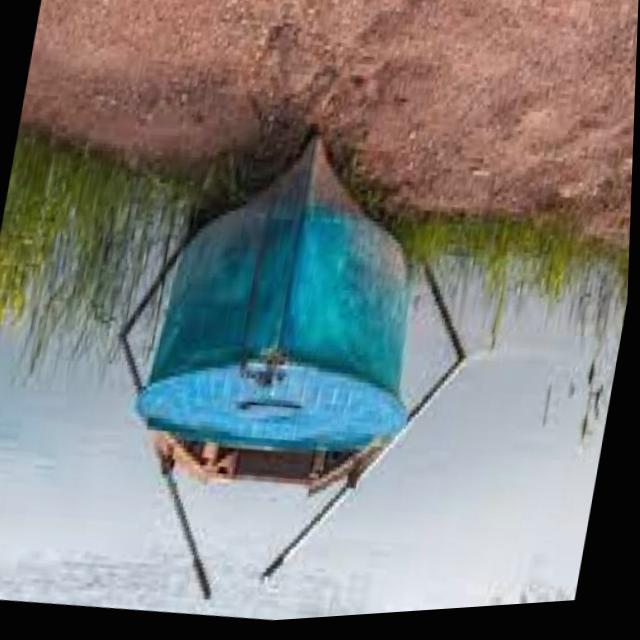ship2: (138, 133, 417, 492)
